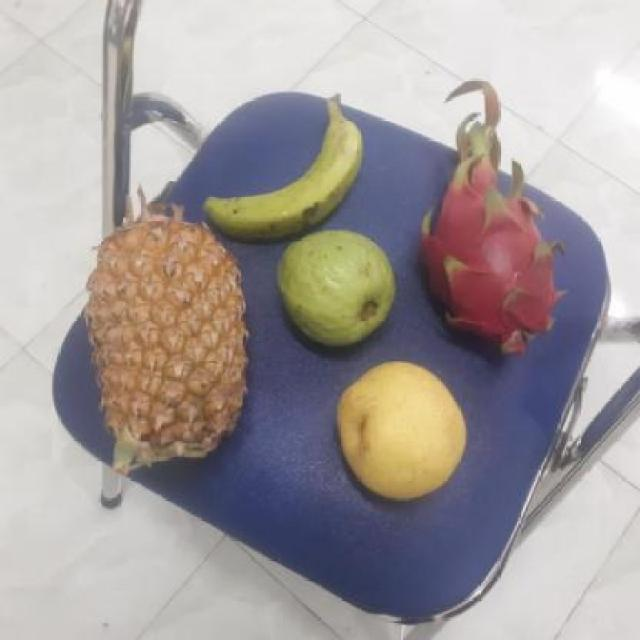banana: (198, 98, 361, 241)
dragon fruit: (413, 162, 559, 356)
guava: (275, 231, 393, 345)
pear: (328, 359, 470, 502)
pineapple: (78, 224, 249, 464)
